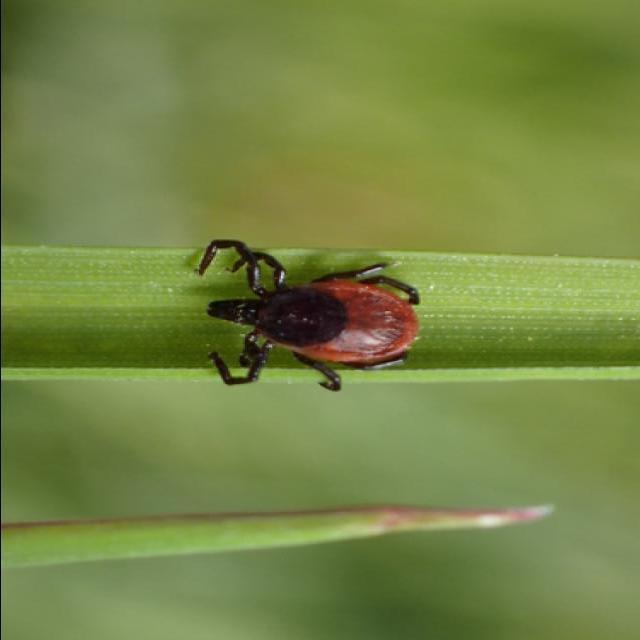Ixodes Ricinus-F: (195, 242, 418, 390)
